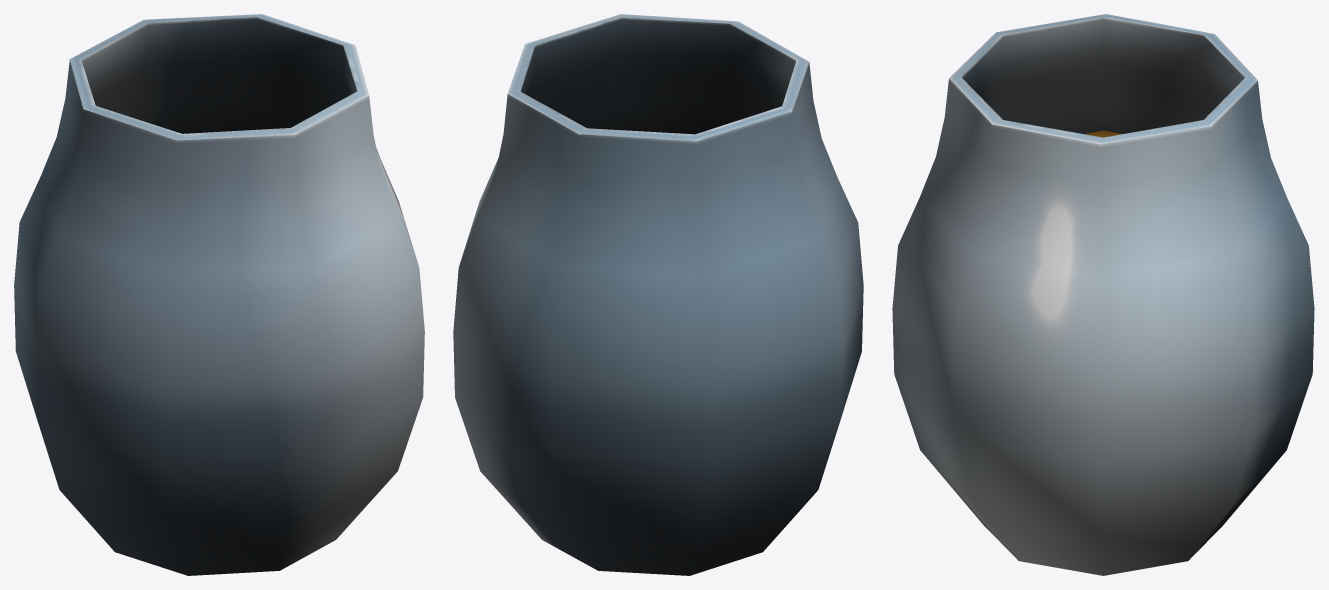
File: Goldrosenmatsch_Cocktail.glb
3 views of the same model, side by side, from view 1: azimuth 30°, elevation 25°; view 2: azimuth 150°, elevation 25°; view 3: azimuth 270°, elevation 25° (orthographic).
Visible parts, largest first — view 1: CocktailGlass.014; view 2: CocktailGlass.014; view 3: CocktailGlass.014.
Boxes of the visible parts, x1,y1,x2,y2 form: CocktailGlass.014: [14, 14, 424, 575]; CocktailGlass.014: [453, 14, 863, 575]; CocktailGlass.014: [892, 14, 1314, 575].
Size of the model in its own units: 0.0606 by 0.071 by 0.0606.
2 materials, 2 textured.
